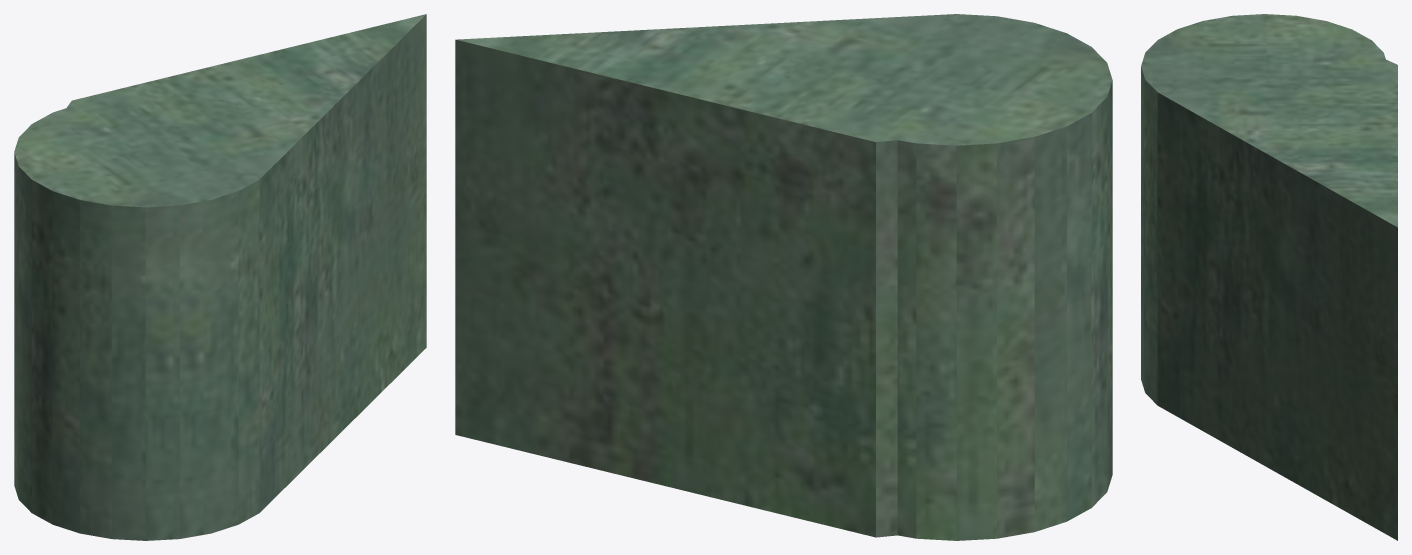
File: original-10.obj
The picture shows the model from 3 angles, left to right: view 1: azimuth 30°, elevation 25°; view 2: azimuth 150°, elevation 25°; view 3: azimuth 270°, elevation 25°; orthographic projection. The views are drawn at different scales.
Visible parts, largest first — view 1: group_2/ID78#ID78; view 2: group_2/ID78#ID78; view 3: group_2/ID78#ID78.
Part boxes in pixels (<box>): group_2/ID78#ID78: <box>14,14,426,540</box>; group_2/ID78#ID78: <box>455,14,1112,540</box>; group_2/ID78#ID78: <box>1141,14,1397,540</box>.
Size of the model in its own units: 0.1045 by 0.0715 by 0.0531.
